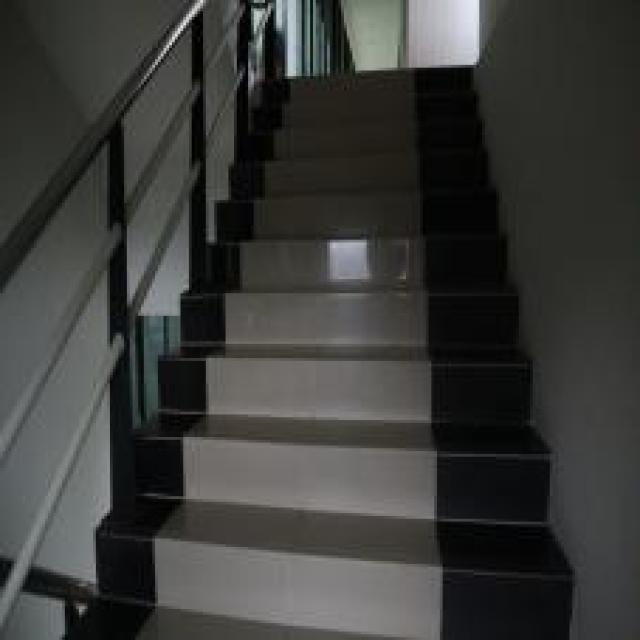upstair: (248, 68, 505, 637)
